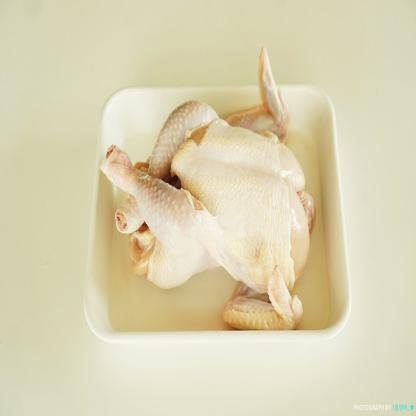chicken: (96, 54, 320, 344)
